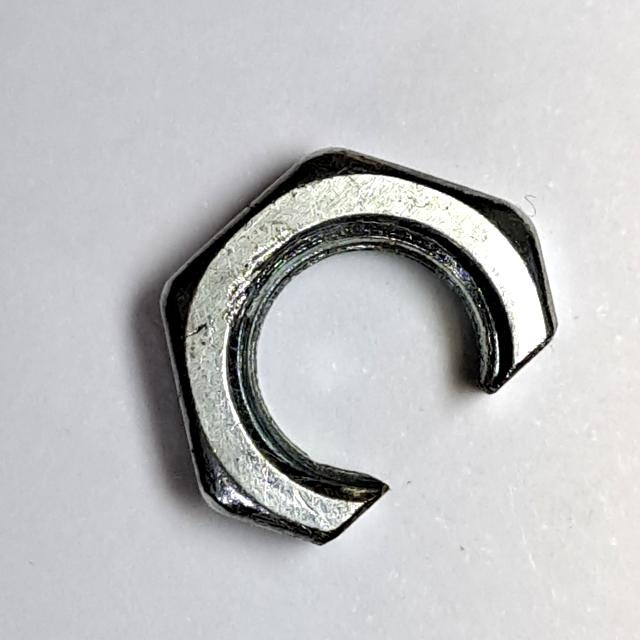Fracture: (149, 124, 564, 569)
